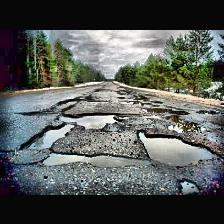pothole: (135, 127, 223, 167), (41, 150, 149, 168), (18, 122, 76, 149), (58, 112, 122, 130), (164, 114, 204, 132), (52, 96, 82, 112), (178, 176, 200, 194), (141, 105, 189, 113), (20, 109, 42, 115), (196, 107, 220, 112)
